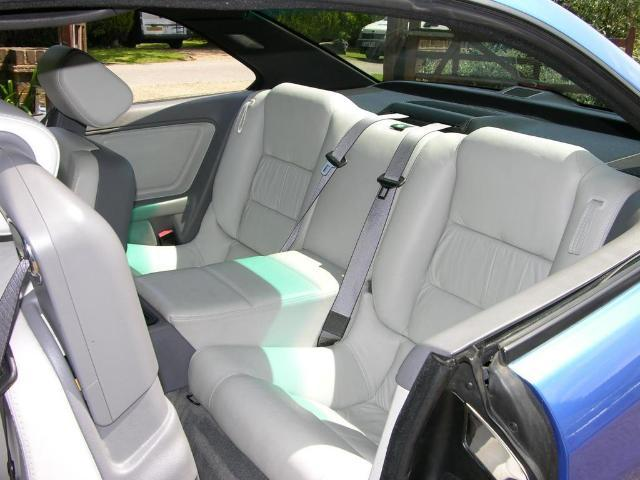Seatbelt: (319, 120, 451, 346), (278, 110, 399, 254), (1, 251, 30, 367)
